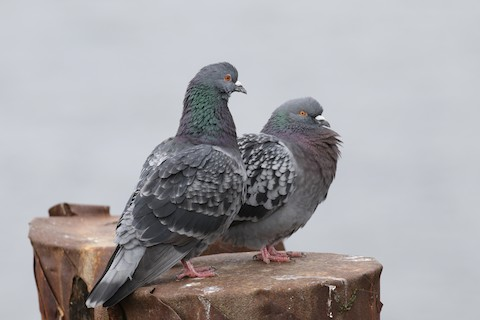pigeon: (78, 61, 251, 313), (143, 90, 345, 277)
